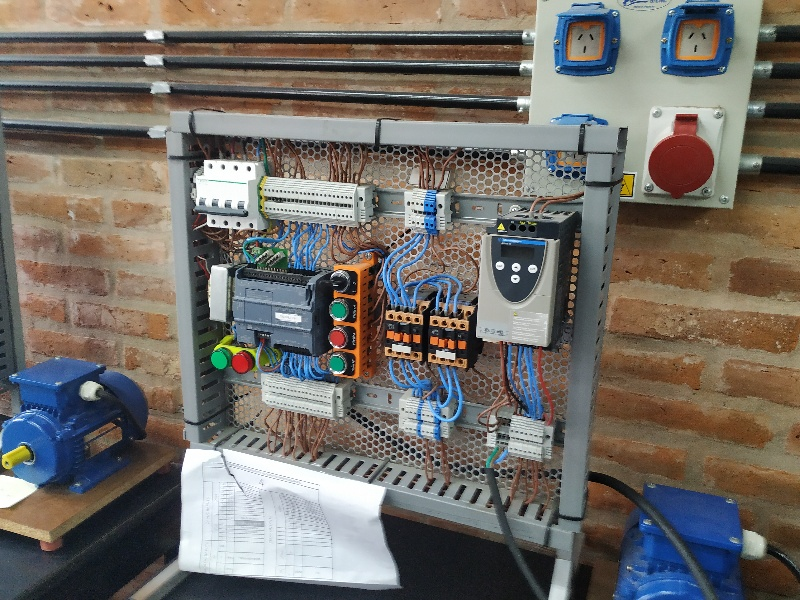Tablero 4: (186, 133, 574, 508)
